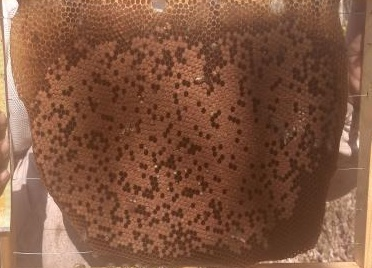cria: (28, 19, 342, 260)
